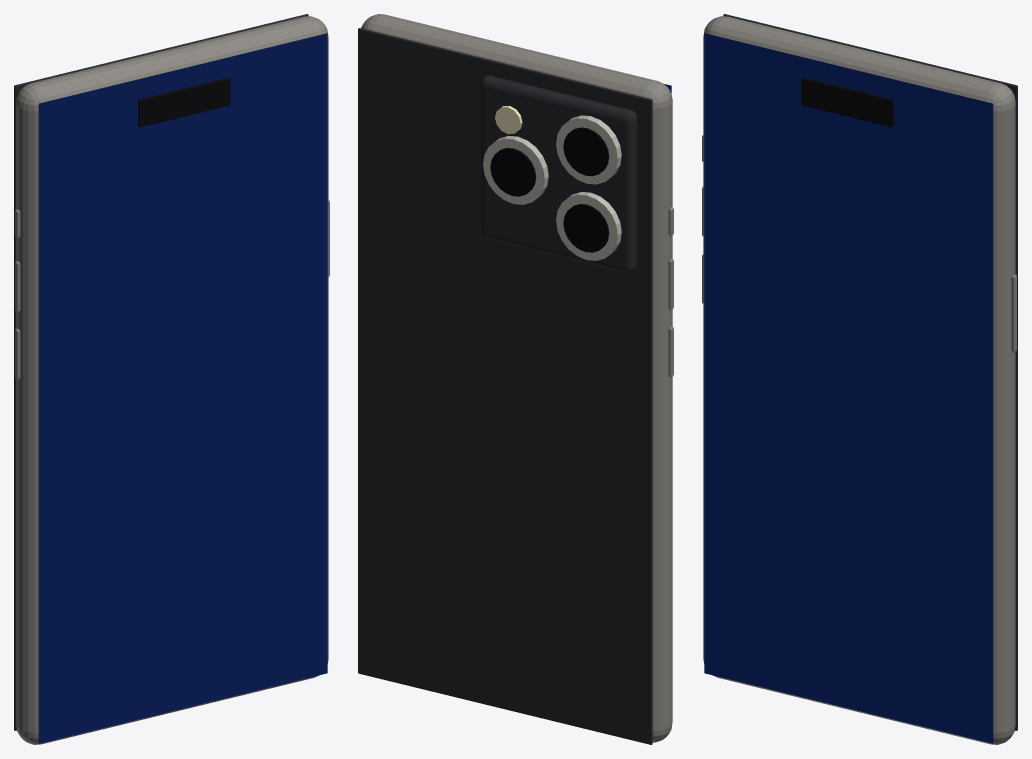
Rendered from smartphone.glb.
3 views of the same model, side by side, from view 1: azimuth 30°, elevation 25°; view 2: azimuth 150°, elevation 25°; view 3: azimuth 330°, elevation 25° (orthographic).
Parts seen in each view (by area): view 1: screen, frame, dynamic_island, back_glass; view 2: back_glass, frame, camera_plate, lens_ring, lens_ring.002, lens_ring.001, lens.001, lens, lens.002, flash; view 3: screen, frame, dynamic_island, back_glass.
Boxes of the visible parts, x1,y1,x2,y2 form: screen: (38,33,327,743); frame: (16,16,328,744); dynamic_island: (138,77,230,127); back_glass: (14,14,308,730); back_glass: (358,28,652,744); frame: (361,14,672,742); camera_plate: (480,75,637,272); lens_ring: (556,115,621,184); lens_ring.002: (483,136,548,204); lens_ring.001: (556,192,621,260); lens.001: (563,204,609,252); lens: (563,127,609,176); lens.002: (490,148,536,196); flash: (495,106,522,134); screen: (704,33,993,743); frame: (703,16,1015,744); dynamic_island: (801,77,893,127); back_glass: (723,14,1017,730).
Bounding box in the file's own units: 0.0729 × 0.1466 × 0.0148.
